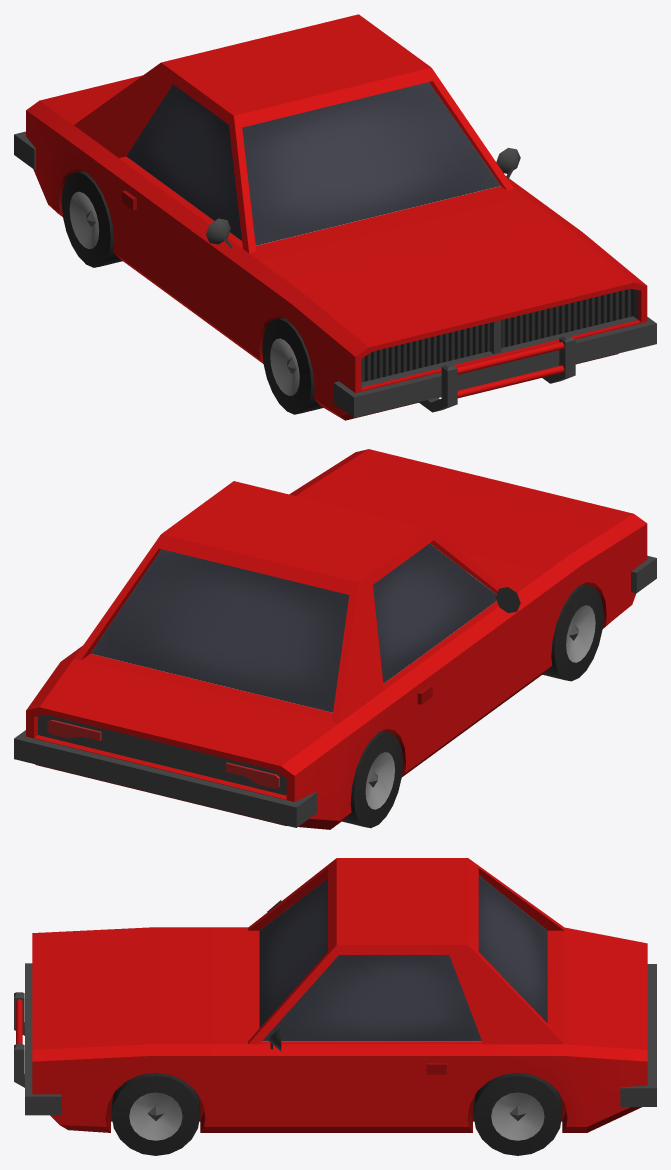
Rendered from Car_B4.fbx.
The picture shows the model from 3 angles, top to bottom: view 1: azimuth 30°, elevation 25°; view 2: azimuth 150°, elevation 25°; view 3: azimuth 270°, elevation 25°; orthographic projection. The views are drawn at different scales.
Visible parts, largest first — view 1: Car2_Body, Car2_RF, Car2_RR; view 2: Car2_Body, Car2_RR, Car2_RF; view 3: Car2_Body, Car2_LR, Car2_LF.
Boxes of the visible parts, x1,y1,x2,y2 form: Car2_Body: (14, 14, 656, 420); Car2_RF: (262, 317, 323, 414); Car2_RR: (61, 171, 122, 267); Car2_Body: (14, 449, 656, 829); Car2_RR: (342, 731, 402, 828); Car2_RF: (542, 584, 603, 681); Car2_Body: (14, 858, 656, 1132); Car2_LR: (473, 1072, 562, 1155); Car2_LF: (111, 1072, 200, 1155).
Bounding box in the file's own units: 206 × 132 × 404.
Materials: 1 (1 with a texture image).
